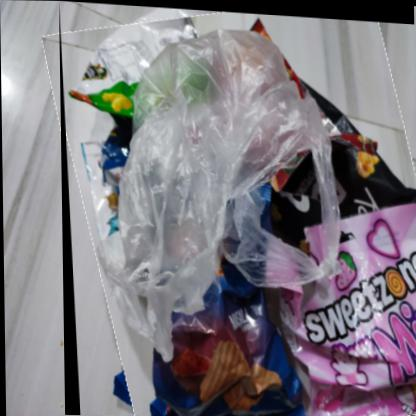Garbage: (60, 1, 416, 416)
